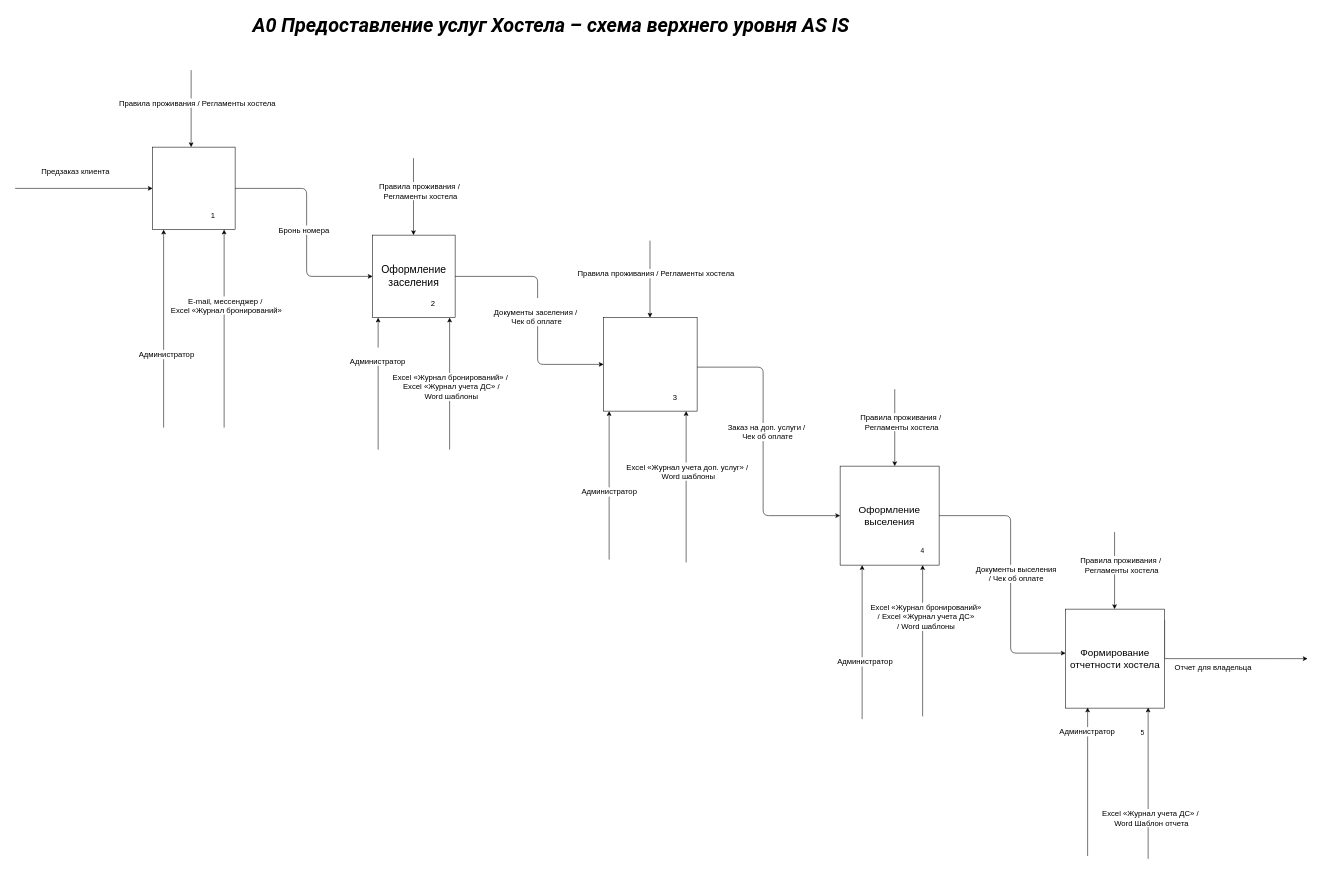
The diagram is 1322 pixels wide and 873 high, and some of its shapes have lost their labels. Here are the shapes that lost their labels. From the top down, the box of each, then its label:
(152, 147, 235, 230): Оформление бронирования
(603, 317, 697, 411): Предоставление доп. услуг
